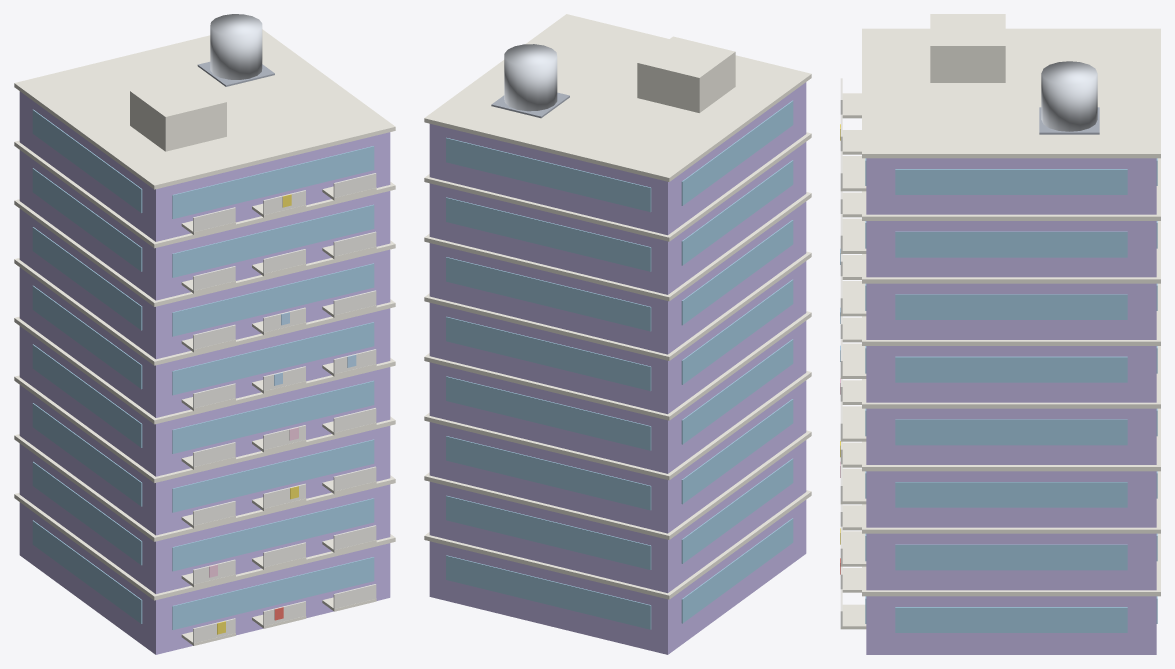
File: Bld_CondoB.fbx
3 views of the same model, side by side, from view 1: azimuth 30°, elevation 25°; view 2: azimuth 150°, elevation 25°; view 3: azimuth 270°, elevation 25° (orthographic). The views are drawn at different scales.
Parts seen in each view (by area): view 1: Bld_CondoB; view 2: Bld_CondoB; view 3: Bld_CondoB.
Boxes of the visible parts, x1=… form: Bld_CondoB: x1=14, y1=14, x2=395, y2=654; Bld_CondoB: x1=424, y1=14, x2=811, y2=654; Bld_CondoB: x1=840, y1=14, x2=1160, y2=654.
Bounding box in the file's own units: 13.77 × 28.2 × 14.86.
